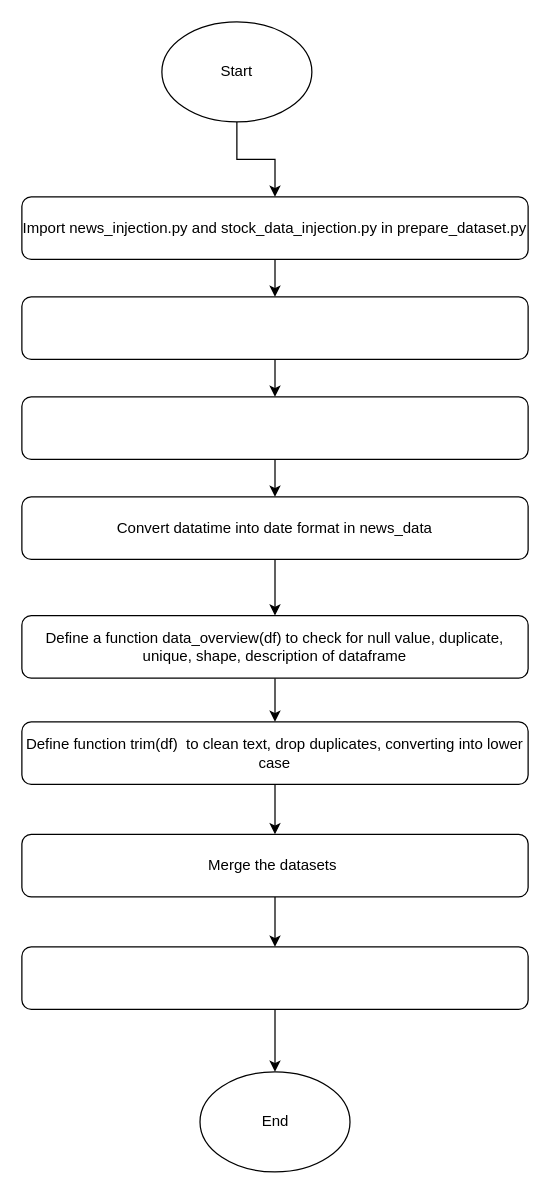
Some shapes in this 550 by 1194 pixel diagram are drawn without their labels. The shapes that lost their labels are listed below. From the top down, each one's centre as x and y in pixels, then its label:
point 274,327: Initialize the variables
point 274,427: Drop unwanted feilds
point 274,977: Create function Clean_text to clean text data
